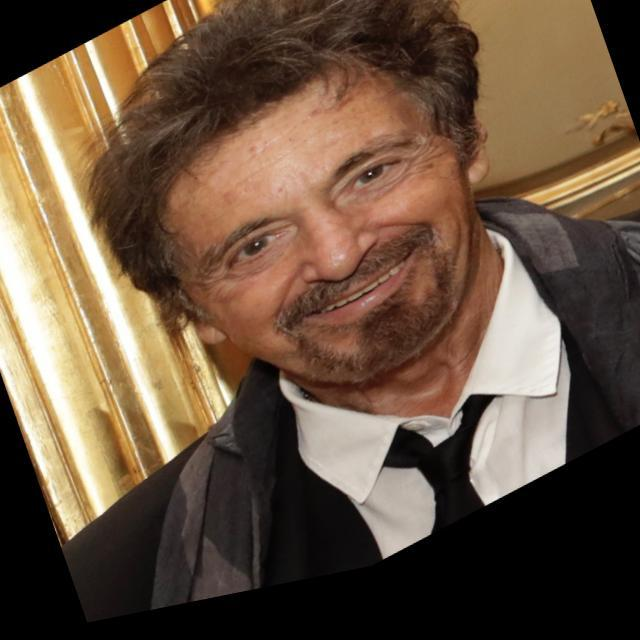Nonhelmet: (79, 0, 497, 388)
